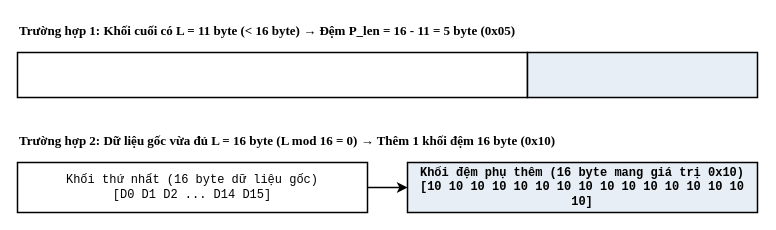
This 776x230 diagram has some shape labels left out. The centre of each missing label's shape, as x and y in pixels:
05 | 05 | 05 | 05 | 05 (5 byte đệm PKCS#7): (642,74)
11 byte dữ liệu gốc: 48 45 4C 4C 4F 5F 50 42 4C 33 21 ('HELLO_PBL3!'): (272,74)
